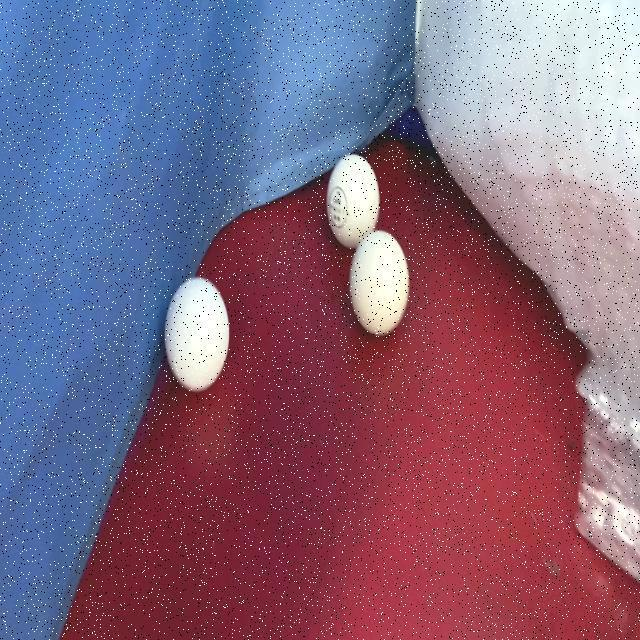ping-pong-ball: (162, 271, 230, 395), (347, 228, 412, 338), (324, 150, 382, 248)
